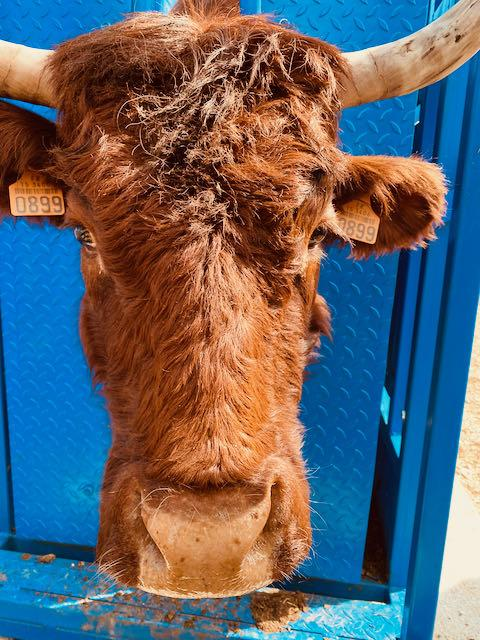muzzles: (75, 468, 333, 613)
